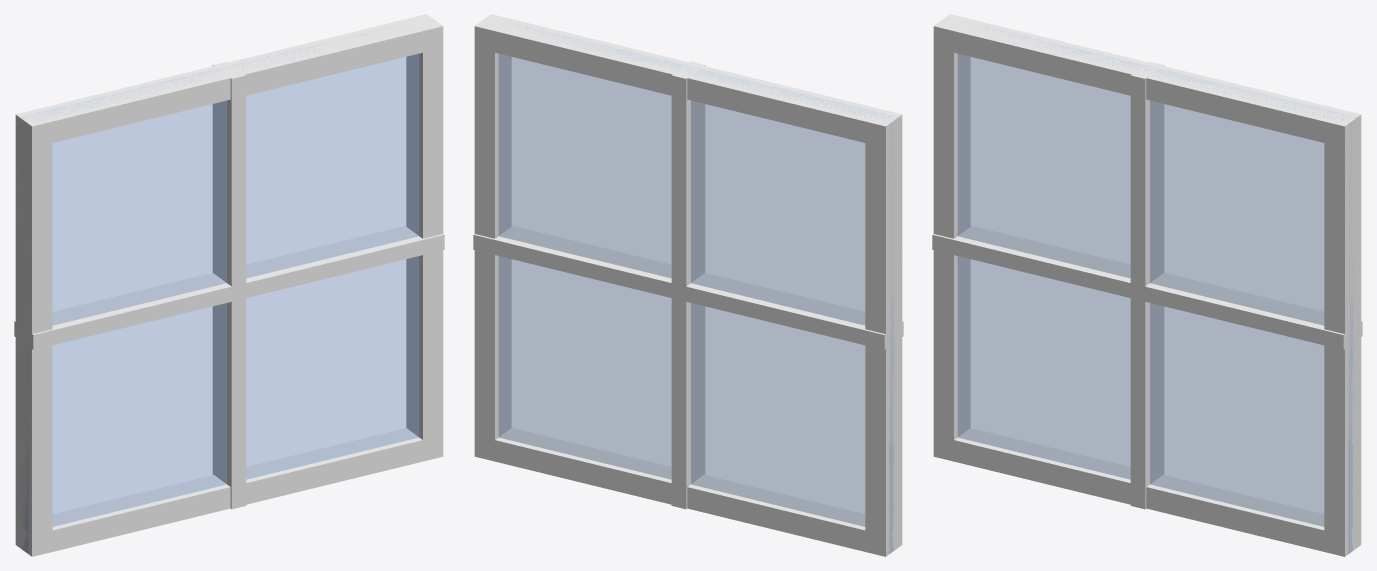
Rendered from window.glb.
3 renders of one model, left to right at view 1: azimuth 30°, elevation 25°; view 2: azimuth 150°, elevation 25°; view 3: azimuth 330°, elevation 25°, orthographic.
Visible parts, largest first — view 1: window; view 2: window; view 3: window.
Part boxes in pixels (x1,y1,x2,y2): window: (14, 14, 444, 556); window: (473, 14, 903, 556); window: (932, 14, 1362, 556).
Size of the model in its own units: 1 by 1 by 0.08.
